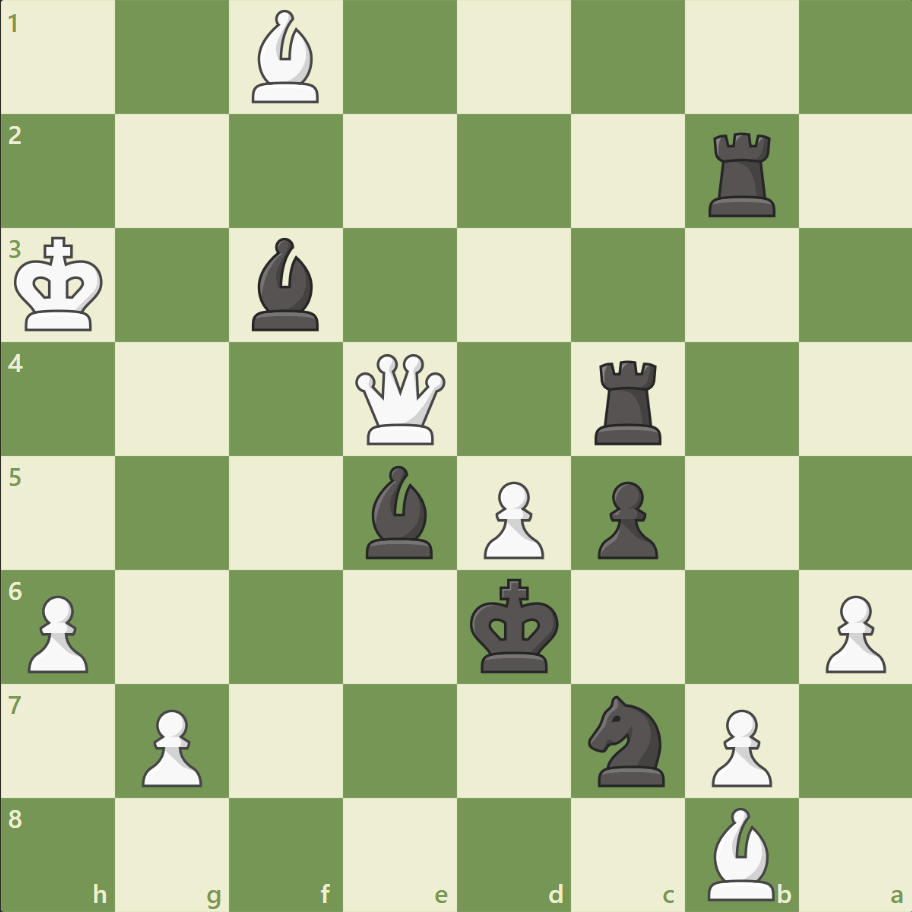B: (698, 801, 782, 904), (244, 6, 328, 109)
K: (11, 231, 111, 339)
P: (701, 700, 776, 791), (133, 700, 208, 791), (20, 586, 95, 677), (474, 473, 549, 564), (815, 586, 889, 677)
Q: (351, 349, 450, 449)
b: (358, 460, 442, 563), (244, 233, 328, 336)
k: (465, 571, 565, 679)
n: (579, 688, 676, 791)
p: (588, 473, 662, 564)
r: (587, 352, 670, 449), (700, 125, 783, 222)
